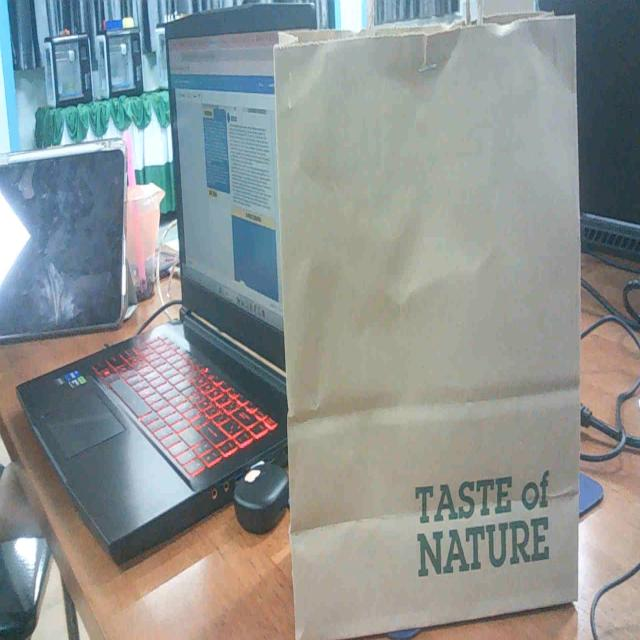bag: (237, 0, 620, 640)
